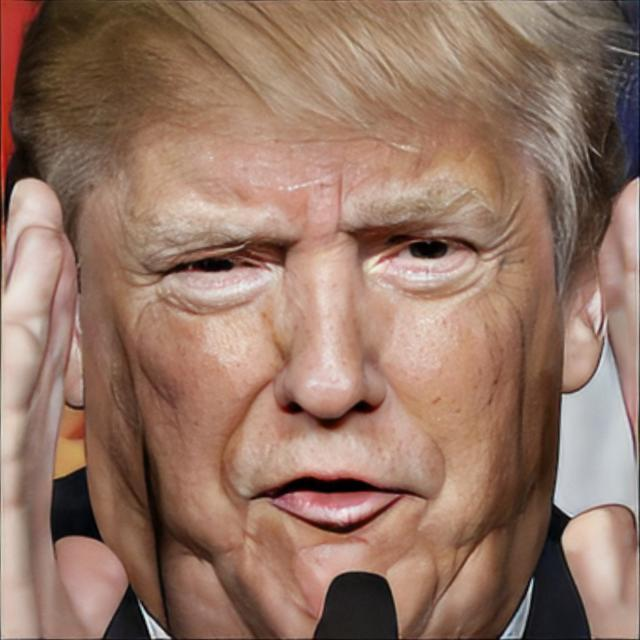disgust: (80, 30, 564, 640)
